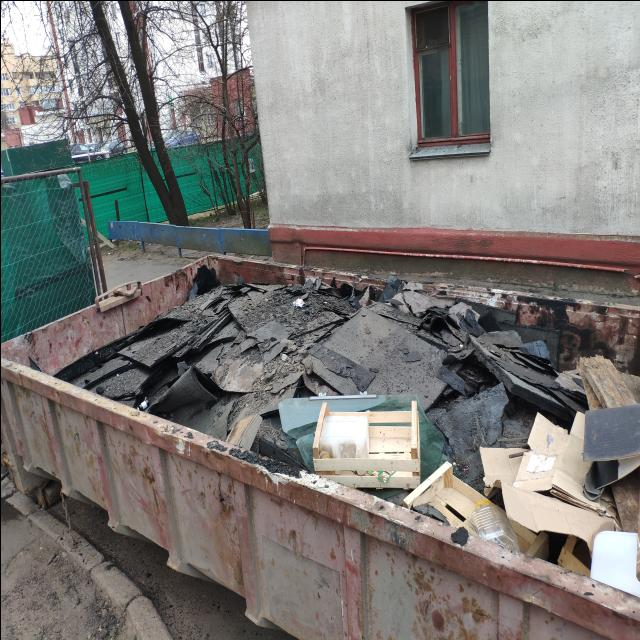entulho: (54, 314, 232, 424), (495, 404, 621, 547), (300, 294, 450, 412), (389, 468, 535, 556), (276, 396, 445, 470), (484, 330, 580, 440), (314, 400, 422, 488), (580, 347, 640, 413), (590, 536, 640, 592)
